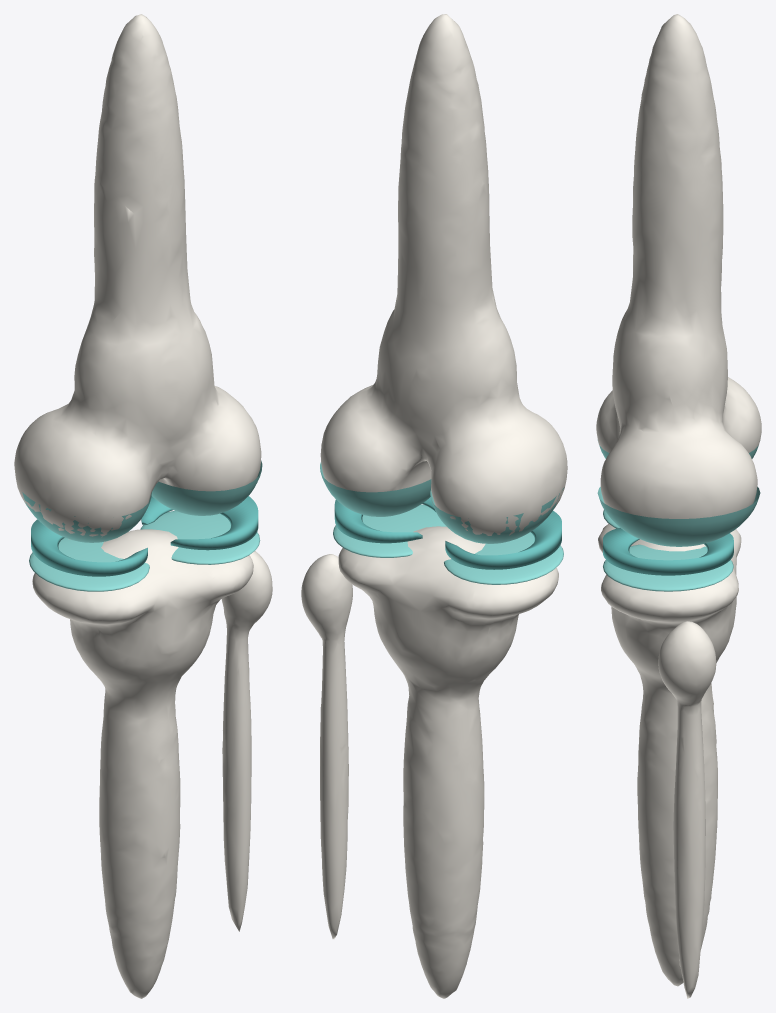
Rendered from knee-motion.glb.
3 renders of one model, left to right at view 1: azimuth 30°, elevation 25°; view 2: azimuth 150°, elevation 25°; view 3: azimuth 270°, elevation 25°, orthographic.
Parts seen in each view (by area): view 1: static #eee5d3, lower-leg #eee5d3, lower-leg #49bdb4, lower-leg #258985, static #49bdb4; view 2: static #eee5d3, lower-leg #eee5d3, lower-leg #49bdb4, lower-leg #258985, static #49bdb4; view 3: static #eee5d3, lower-leg #eee5d3, static #49bdb4, lower-leg #258985, lower-leg #49bdb4.
Part boxes in pixels (left/top/right/bottom): static #eee5d3: left=14, top=14, right=261, bottom=539; lower-leg #eee5d3: left=32, top=529, right=272, bottom=998; lower-leg #49bdb4: left=29, top=511, right=260, bottom=591; lower-leg #258985: left=31, top=496, right=258, bottom=576; static #49bdb4: left=22, top=460, right=262, bottom=542; static #eee5d3: left=320, top=14, right=567, bottom=535; lower-leg #eee5d3: left=301, top=526, right=558, bottom=998; lower-leg #49bdb4: left=333, top=504, right=563, bottom=584; lower-leg #258985: left=334, top=497, right=561, bottom=569; static #49bdb4: left=320, top=462, right=563, bottom=543; static #eee5d3: left=596, top=14, right=761, bottom=518; lower-leg #eee5d3: left=598, top=523, right=741, bottom=998; static #49bdb4: left=597, top=440, right=760, bottom=546; lower-leg #258985: left=603, top=528, right=733, bottom=575; lower-leg #49bdb4: left=603, top=510, right=733, bottom=591.
Bounding box in the file's own units: 0.2068 × 0.8002 × 0.1236.
